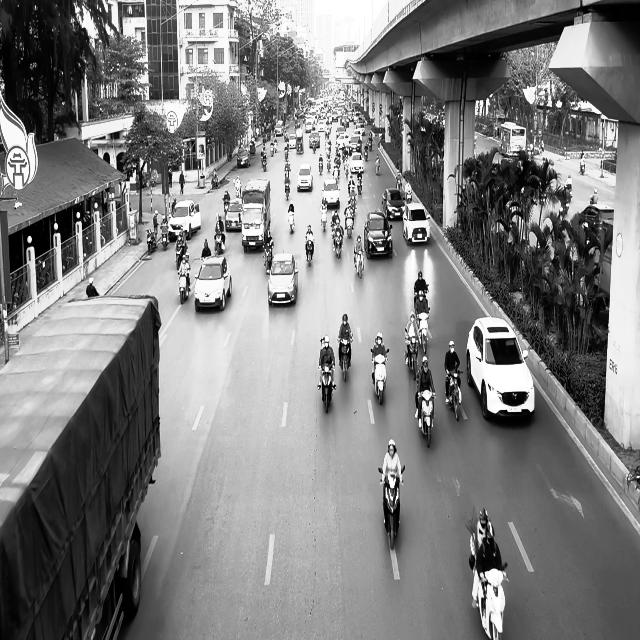bus: (499, 121, 526, 156)
car: (466, 316, 535, 421), (194, 255, 232, 312), (268, 252, 298, 306), (167, 199, 201, 242), (363, 210, 392, 258), (578, 204, 614, 242), (402, 202, 430, 245), (381, 188, 406, 220), (321, 178, 340, 210), (225, 199, 243, 232), (297, 162, 313, 192), (237, 148, 250, 168)
motorbike: (469, 556, 508, 639), (378, 465, 405, 550), (414, 372, 436, 448), (370, 347, 389, 405), (444, 369, 463, 421), (318, 362, 335, 413), (404, 330, 420, 379), (338, 334, 352, 381), (178, 268, 190, 304), (353, 248, 364, 278), (263, 242, 273, 274), (305, 235, 314, 266), (287, 210, 295, 233)
truck: (0, 293, 161, 638), (240, 178, 270, 252)
